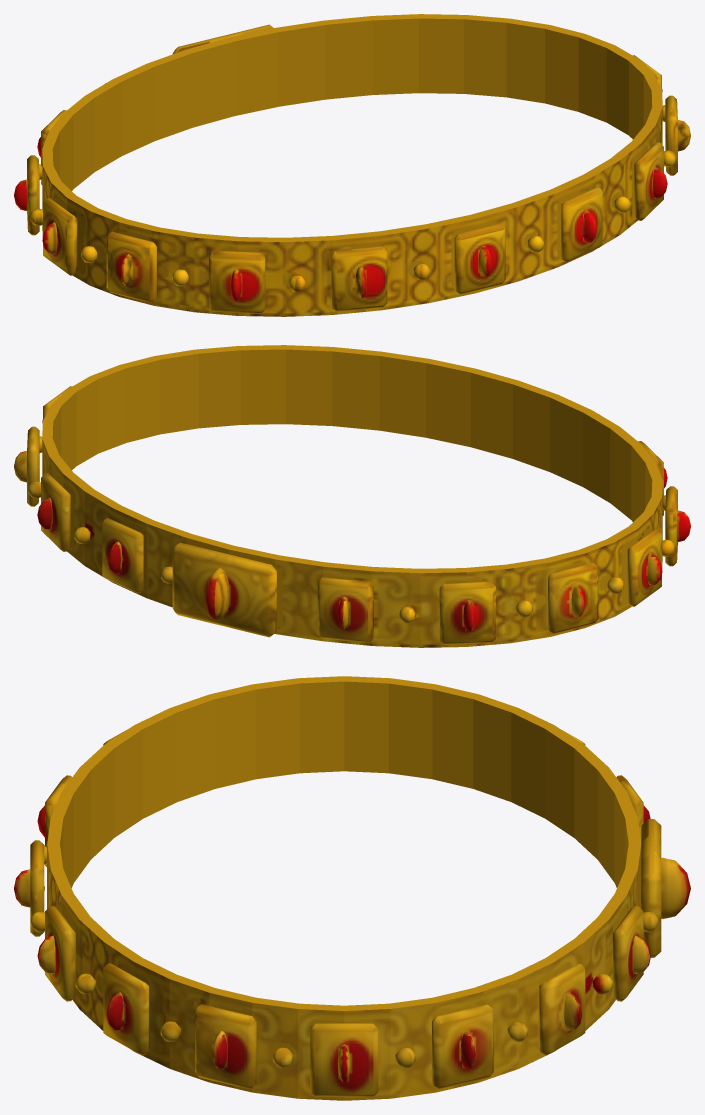
Rendered from item_mm9_10153.glb.
3 views of the same model, one above another, from view 1: azimuth 30°, elevation 25°; view 2: azimuth 150°, elevation 25°; view 3: azimuth 270°, elevation 25° (orthographic). The views are drawn at different scales.
Parts seen in each view (by area): view 1: d10153; view 2: d10153; view 3: d10153.
Boxes of the visible parts, x1=… form: d10153: x1=14, y1=14, x2=690, y2=316; d10153: x1=14, y1=345, x2=690, y2=647; d10153: x1=14, y1=676, x2=690, y2=1100.
Size of the model in its own units: 61.2 by 7.06 by 48.25.
Materials: 1 (1 with a texture image).
